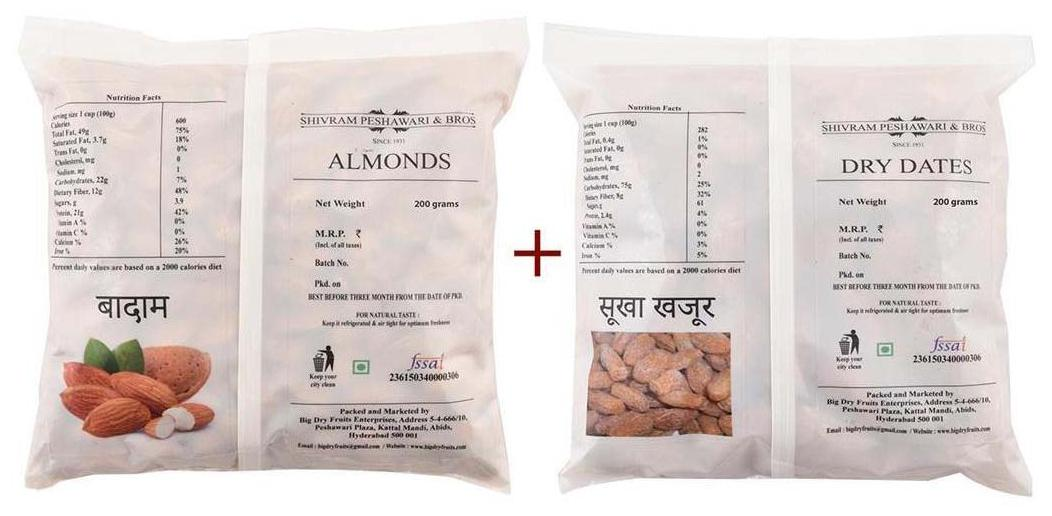fssai: (408, 353, 446, 371), (929, 336, 966, 351)
